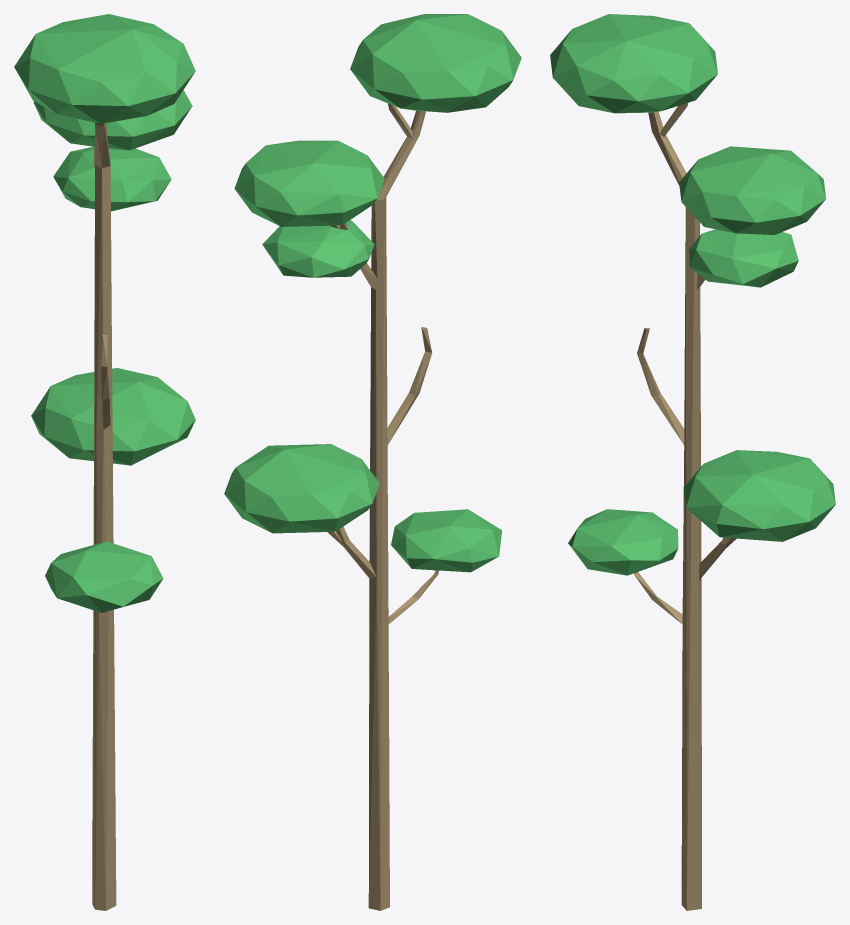
File: tree40.fbx
3 renders of one model, left to right at view 1: azimuth 30°, elevation 25°; view 2: azimuth 150°, elevation 25°; view 3: azimuth 270°, elevation 25°, orthographic. The views are drawn at different scales.
Visible parts, largest first — view 1: treetype40; view 2: treetype40; view 3: treetype40.
Part boxes in pixels (<box>): treetype40: <box>14,14,195,910</box>; treetype40: <box>224,14,521,910</box>; treetype40: <box>550,14,835,910</box>.
Bounding box in the file's own units: 59.28 × 228 × 68.41.
